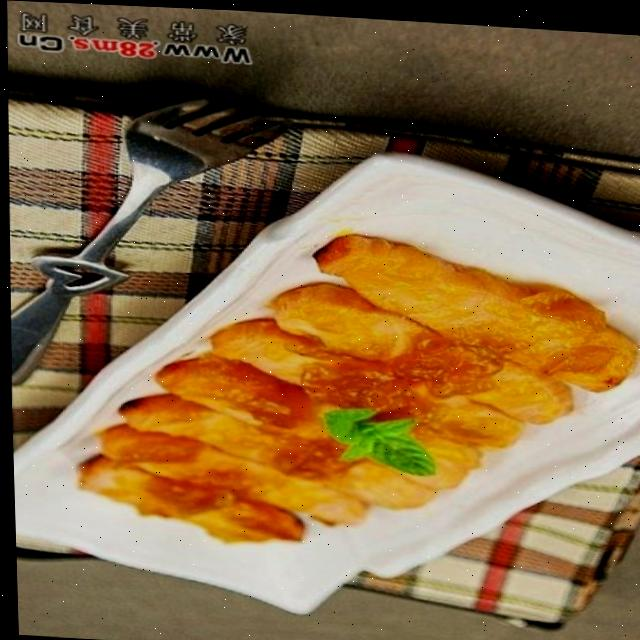熟制海鲜: (38, 162, 640, 632)
